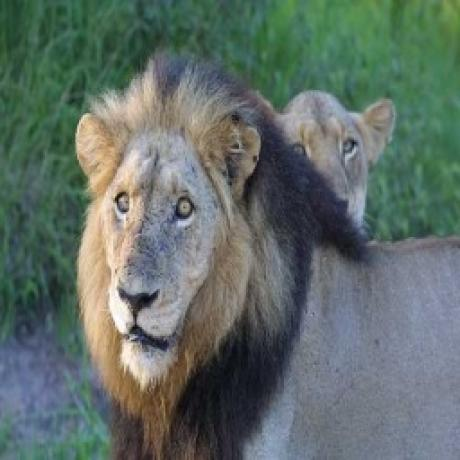Lion: (72, 48, 460, 460), (275, 88, 399, 239)
